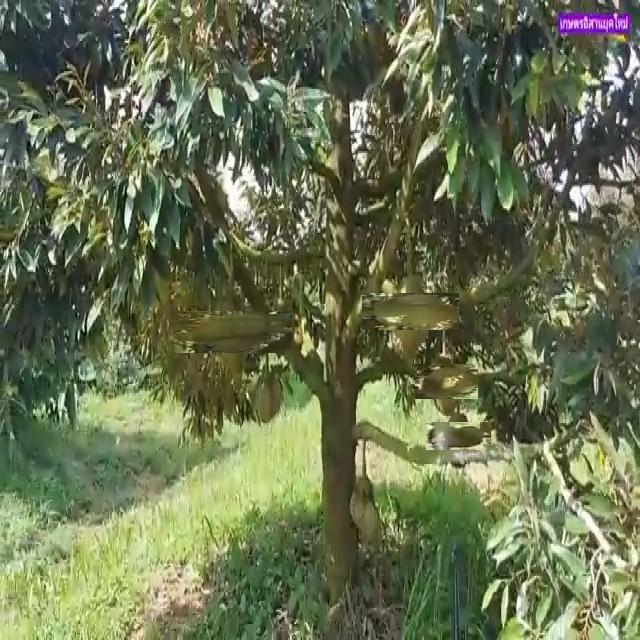durian: (193, 292, 273, 373), (377, 278, 445, 345), (347, 467, 382, 547), (422, 357, 472, 406), (434, 413, 482, 460), (251, 372, 285, 426)
